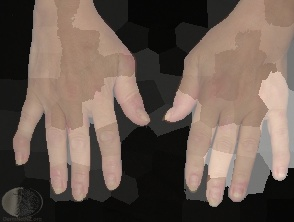Nail_psoriasis: (47, 172, 68, 197), (69, 180, 91, 203), (184, 173, 203, 194), (229, 183, 247, 203), (134, 105, 151, 125), (103, 172, 120, 192), (209, 186, 223, 208), (160, 106, 178, 122), (274, 165, 289, 182), (13, 149, 25, 166)
